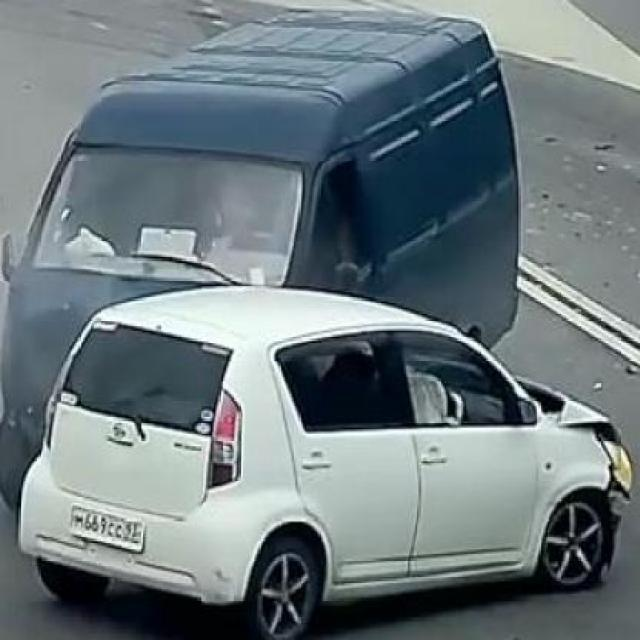accident: (7, 35, 582, 626)
